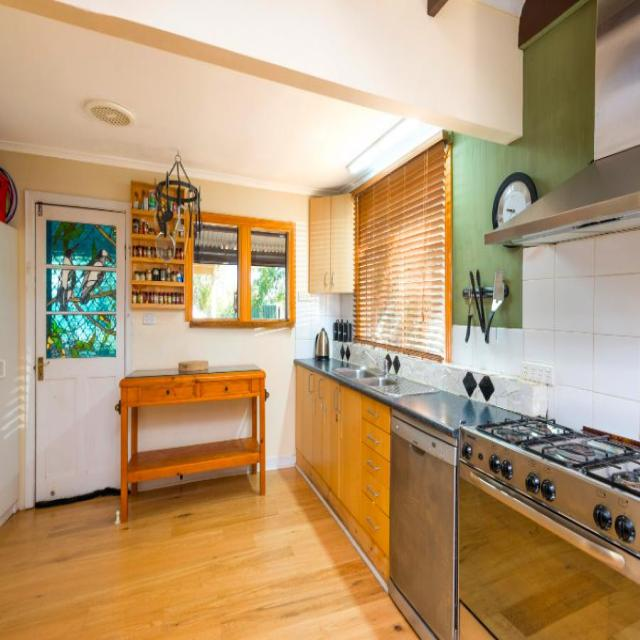dishwasher: (389, 404, 458, 639)
